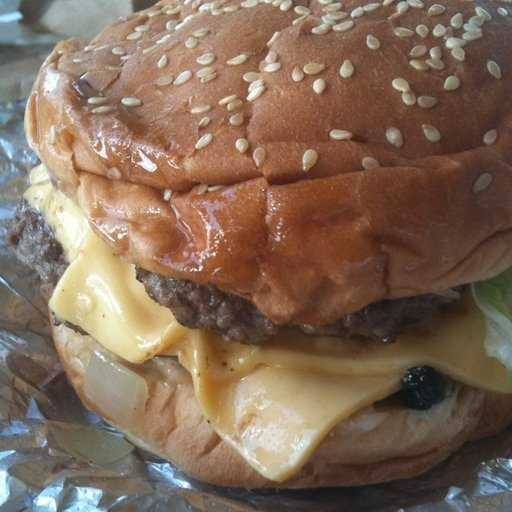hamburger: (26, 5, 511, 471)
